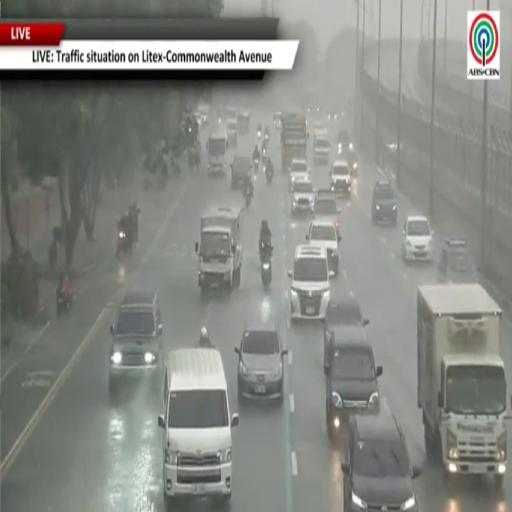car: (158, 348, 238, 511), (342, 399, 420, 511), (325, 326, 382, 438), (109, 291, 163, 393), (235, 322, 287, 402), (288, 245, 334, 321), (324, 294, 369, 367), (306, 220, 340, 276), (438, 239, 479, 283), (402, 216, 433, 262), (315, 189, 341, 237), (372, 181, 397, 226), (291, 179, 315, 215), (330, 159, 351, 199), (231, 156, 252, 189), (289, 158, 310, 189), (313, 130, 330, 164), (340, 151, 358, 180), (337, 129, 354, 154), (226, 118, 237, 147), (237, 111, 250, 135), (273, 111, 282, 130)
motorcycle: (57, 283, 74, 316), (261, 245, 272, 289), (116, 229, 132, 258), (48, 238, 58, 271), (261, 261, 272, 289), (265, 168, 273, 184), (245, 192, 252, 207), (262, 148, 267, 164), (254, 158, 259, 171), (265, 133, 269, 141), (258, 131, 261, 138)
truck: (417, 284, 509, 488), (195, 206, 242, 293), (281, 114, 307, 172), (207, 128, 228, 174)
